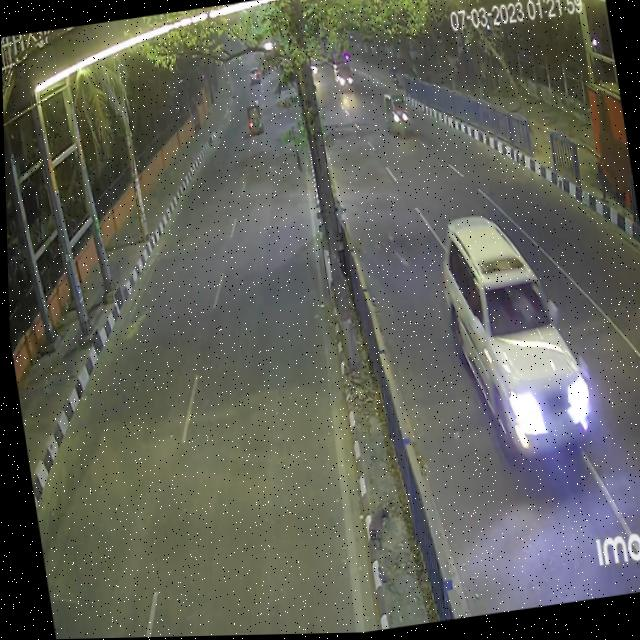cng: (379, 90, 412, 139), (242, 93, 267, 147)
